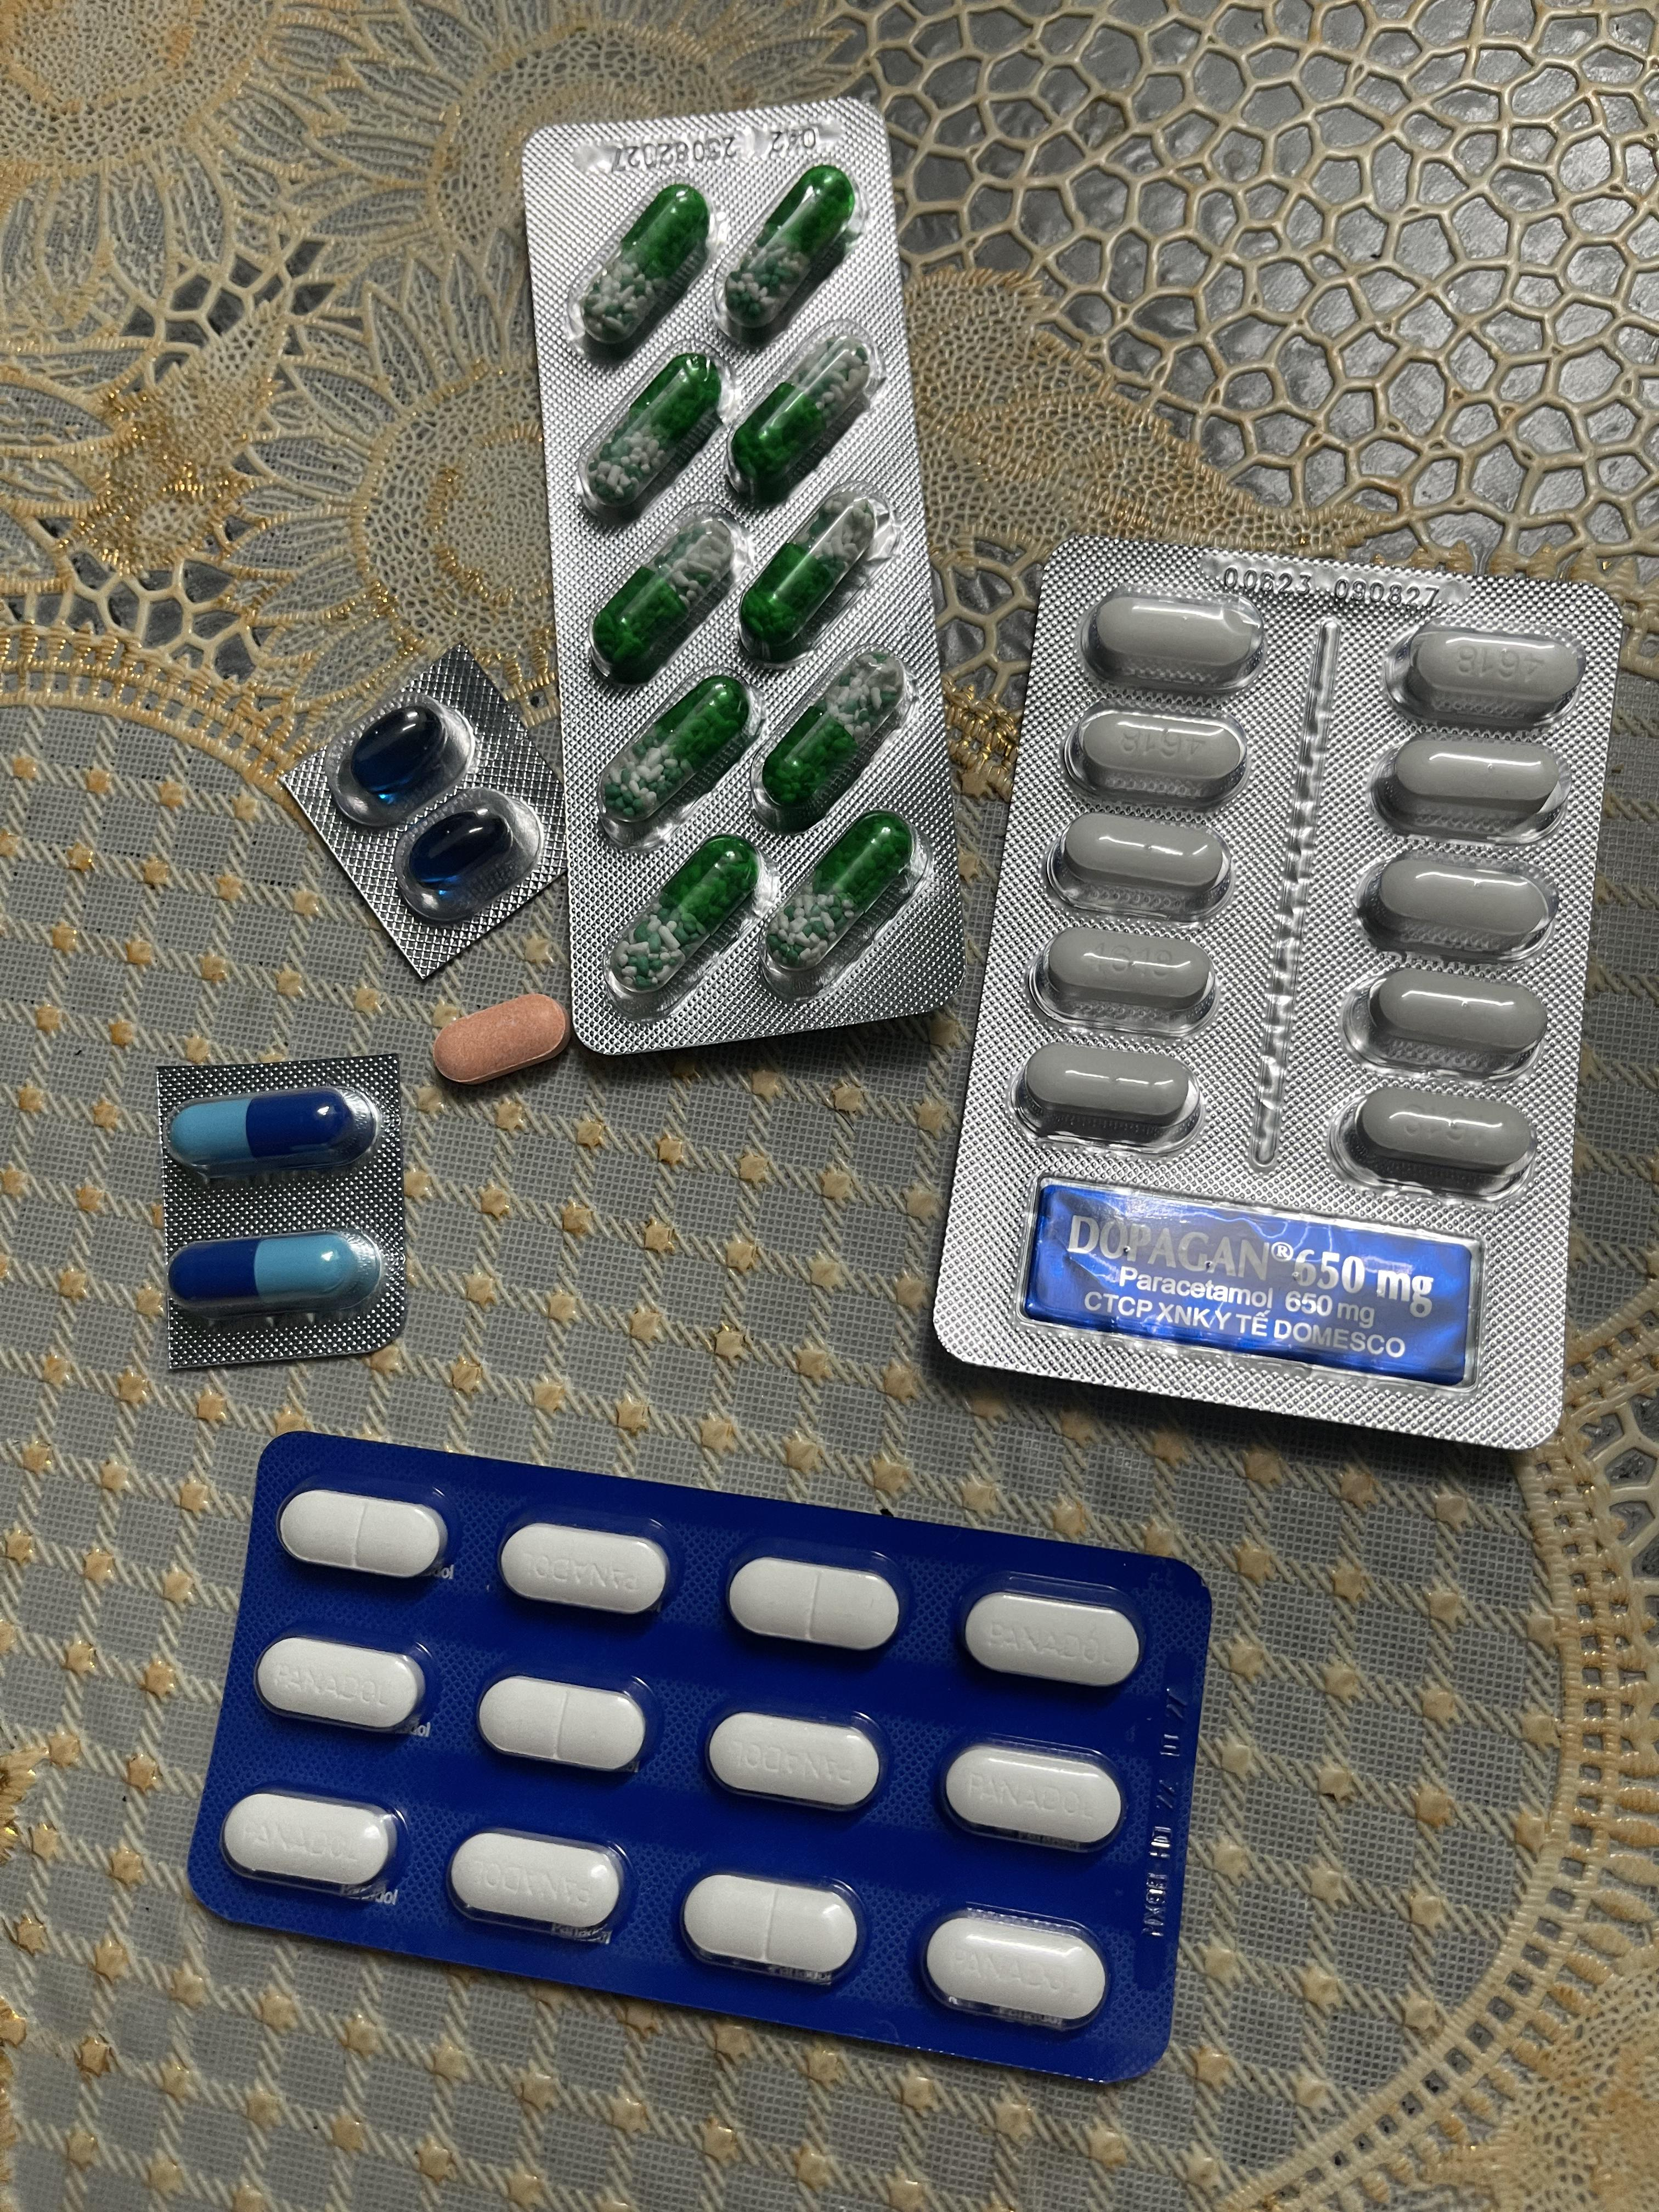Lincomyxin_500mg: (349, 702, 453, 799), (406, 808, 514, 890)
Loratadine_10mg: (430, 993, 572, 1080)
Paracetamol_350mg: (680, 1872, 871, 1994), (920, 1907, 1101, 2033), (958, 1576, 1140, 1688), (706, 1709, 894, 1815), (450, 1829, 631, 1939), (943, 1740, 1122, 1850), (221, 1791, 399, 1897), (723, 1557, 904, 1658), (254, 1634, 430, 1735), (477, 1674, 650, 1773), (500, 1521, 676, 1616), (277, 1489, 450, 1581)
Paracetamol_500mg: (1359, 848, 1561, 965), (1387, 615, 1586, 733), (1337, 1089, 1541, 1198), (1352, 970, 1549, 1082), (1373, 735, 1570, 841), (1082, 587, 1258, 695), (1019, 1045, 1192, 1151), (1054, 815, 1227, 920), (1037, 923, 1202, 1029), (1066, 707, 1237, 810)
Paracetamol_650mg: (737, 486, 892, 658), (598, 676, 758, 840), (753, 658, 906, 829), (727, 331, 878, 503), (603, 838, 760, 1003), (589, 521, 744, 688), (767, 813, 917, 982), (584, 350, 727, 514), (723, 165, 861, 334), (577, 183, 714, 350)
pill: (167, 1092, 380, 1181), (171, 1231, 383, 1312)
